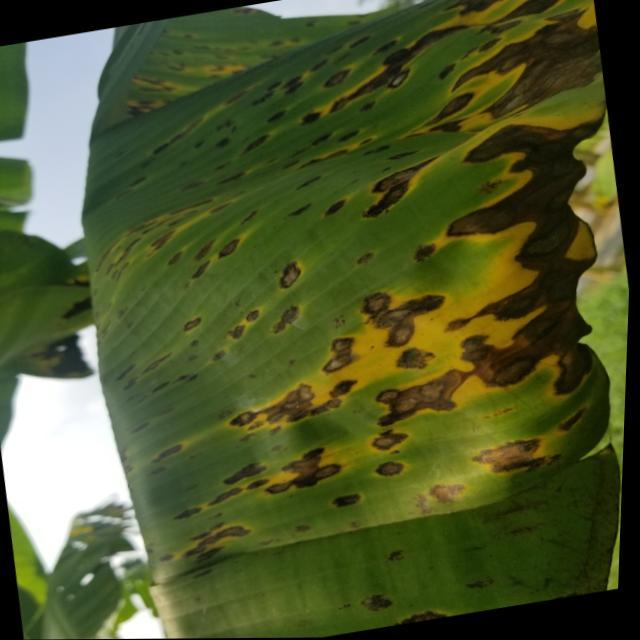Early_rust: (94, 21, 619, 610)
